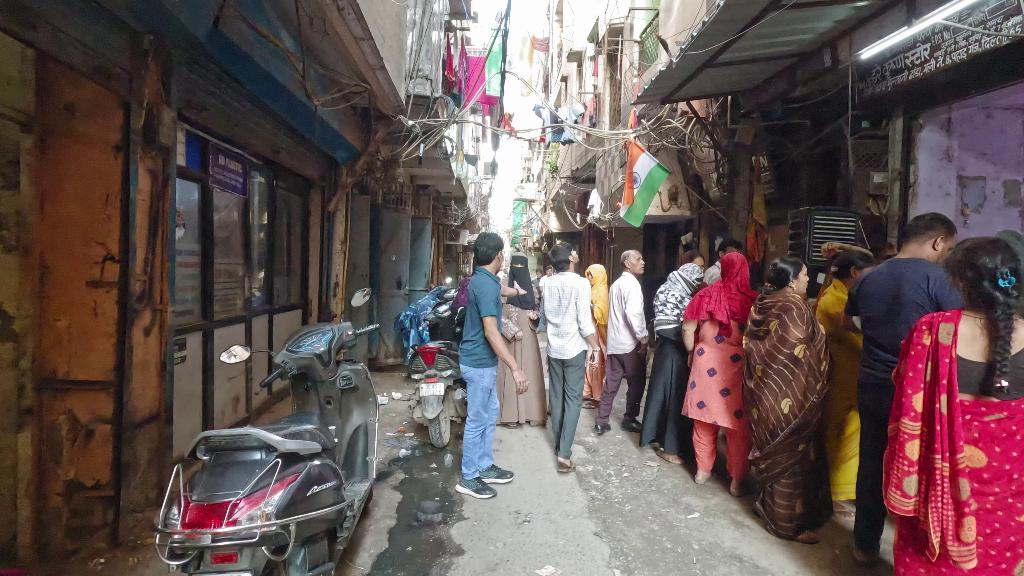garbage: (586, 188, 602, 222), (399, 447, 412, 459), (444, 453, 453, 467), (378, 394, 388, 406), (392, 392, 403, 400)
